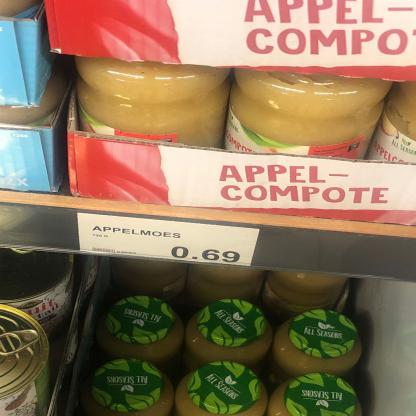prtg: (78, 214, 260, 267)
